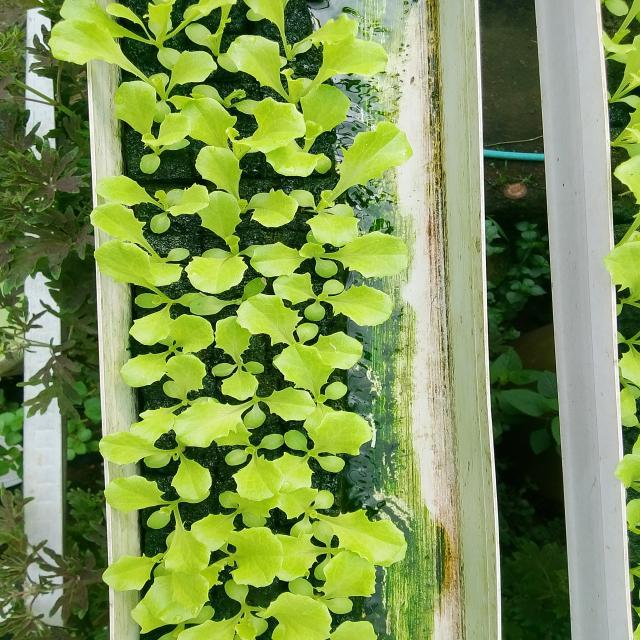Baby: (104, 533, 267, 640), (236, 382, 372, 500), (291, 132, 409, 246), (100, 403, 211, 503), (277, 488, 405, 564), (235, 85, 350, 152), (250, 243, 344, 304), (235, 279, 318, 346), (105, 476, 190, 533), (212, 316, 264, 401), (305, 286, 390, 321), (155, 315, 215, 355), (318, 335, 362, 369), (190, 534, 225, 552)
